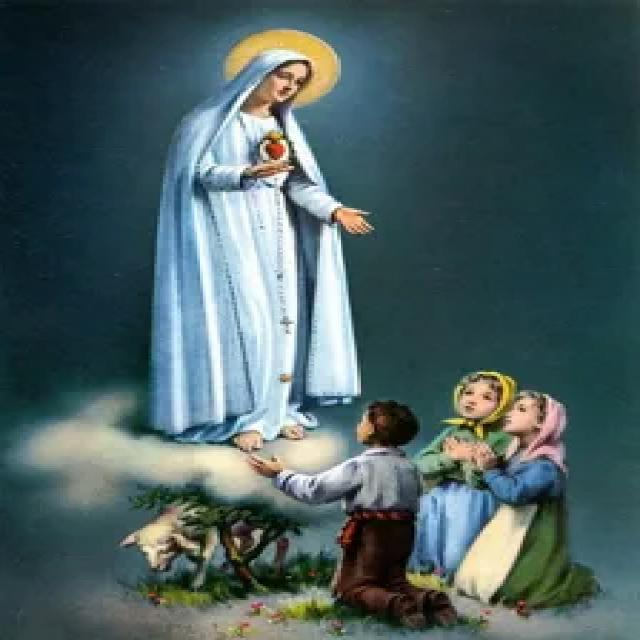mother of god: (119, 42, 400, 449)
